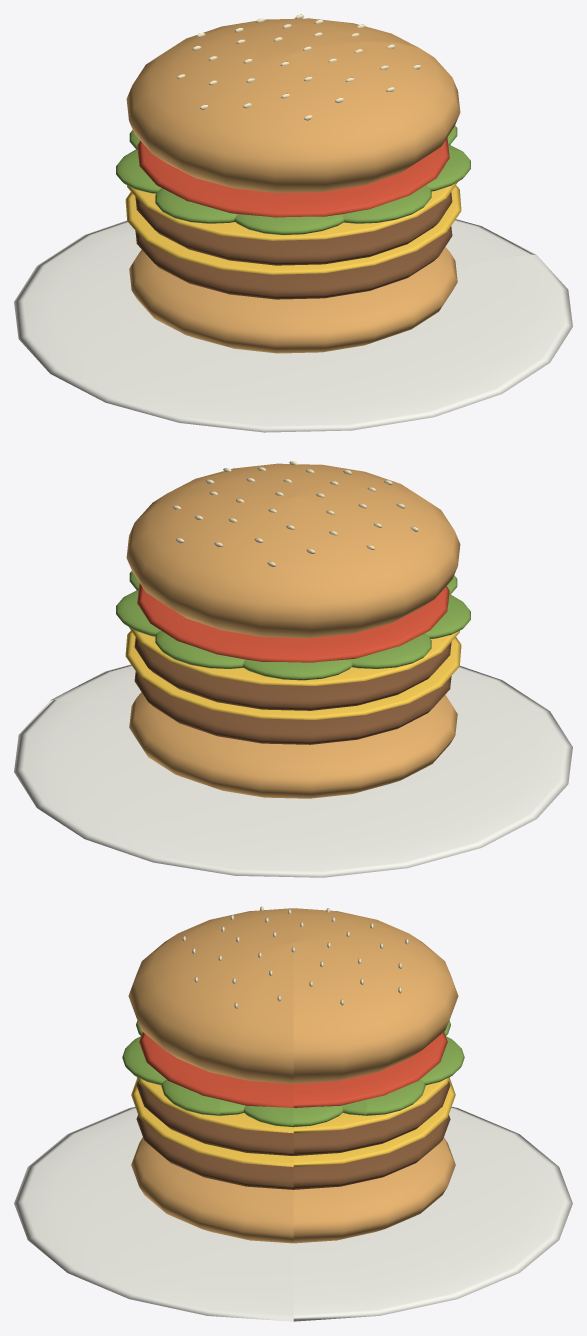
Rendered from double-smash-burger.glb.
3 views of the same model, one above another, from view 1: azimuth 30°, elevation 25°; view 2: azimuth 150°, elevation 25°; view 3: azimuth 270°, elevation 25° (orthographic).
Parts seen in each view (by area): view 1: double-smash-burger; view 2: double-smash-burger; view 3: double-smash-burger.
Part boxes in pixels (box(x1,y1,x2,y2)): double-smash-burger: box(14, 14, 572, 432); double-smash-burger: box(14, 461, 572, 877); double-smash-burger: box(14, 906, 572, 1321).
Bounding box in the file's own units: 0.21 × 0.1129 × 0.21.
